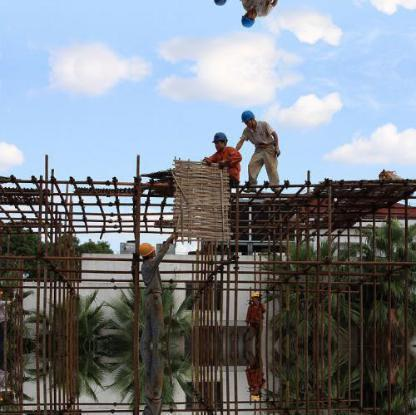helmet: (138, 241, 156, 259), (240, 108, 257, 123), (210, 130, 228, 143)
